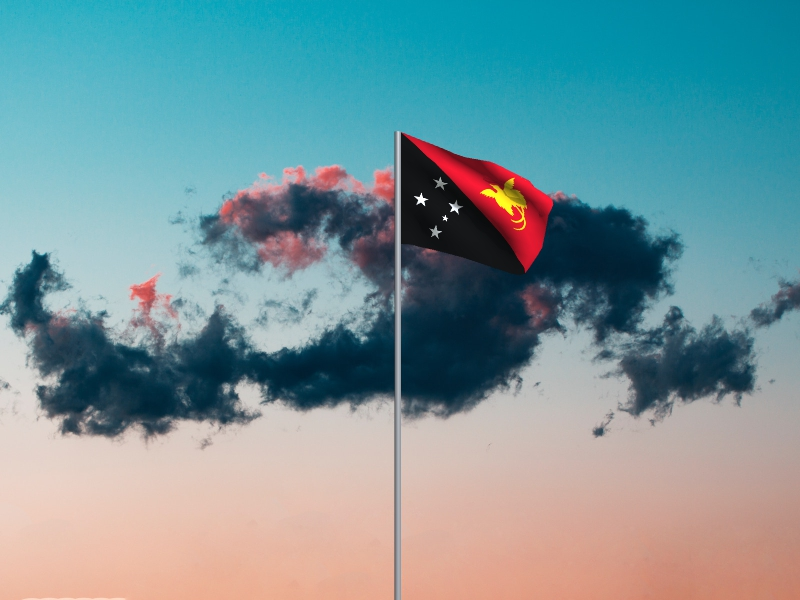pg: (402, 133, 554, 276)
